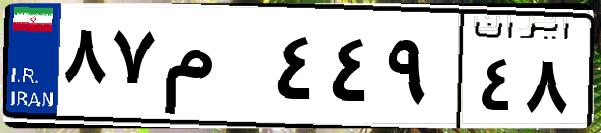4: (270, 28, 330, 110), (330, 28, 385, 110), (475, 38, 525, 113)
7: (110, 28, 158, 98)
8: (57, 26, 110, 100), (525, 38, 570, 115)
9: (385, 28, 445, 110)
م: (158, 20, 270, 120)
